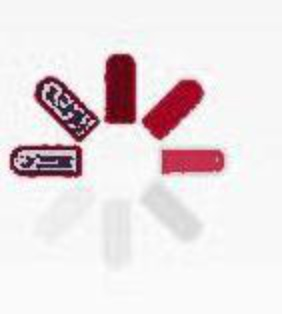ProgressBar: (1, 1, 281, 313)
